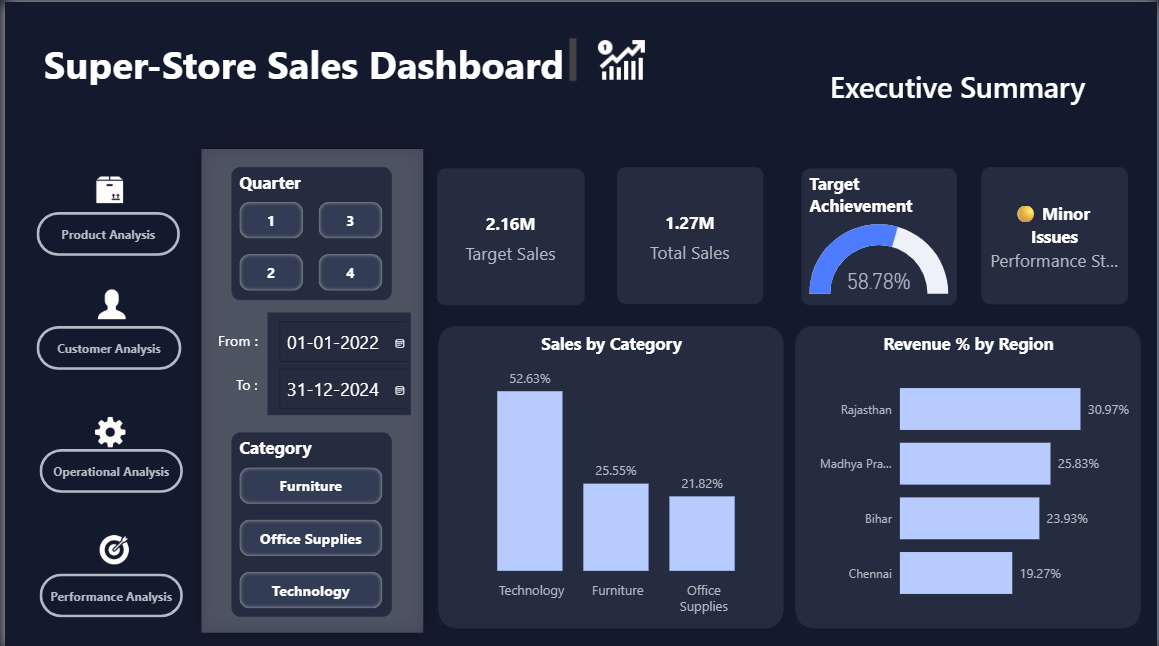

Layout of this report page (visuals, bound fields, positions):
{"tool":"powerbi","page":{"name":"Executive Summary","canvas":[1280,720],"ordinal":0},"visuals":[{"type":"card","fields":{"Values":["Orders.Total Revenue"]},"box":[292.8,148,191.9,126.9],"z":0},{"type":"textbox","box":[24.4,30.9,364.3,73.2],"z":1000},{"type":"actionButton","box":[566,55.3,161,48.8],"z":2000},{"type":"card","fields":{"Values":["Sum(Targets.Target Sales)"]},"box":[40.7,147.8,191.9,126.9],"z":3000},{"type":"actionButton","box":[731.9,55.3,164.3,48.8],"z":4000},{"type":"card","fields":{"Values":["Orders.Target Variance"]},"box":[544.9,148,191.9,126.9],"z":5000},{"type":"actionButton","box":[899.5,56.9,177.3,48.8],"z":6000},{"type":"card","title":"Profit Margin","fields":{"Values":["Orders.Performance Status"]},"box":[1055.6,148,191.9,126.9],"z":7000},{"type":"actionButton","box":[1081.7,55.3,191.9,48.8],"z":8000},{"type":"clusteredColumnChart","fields":{"Category":["Products.Category"],"Y":["Sum(Orders.Sales)"]},"box":[16.2,285.1,432,304],"z":9000},{"type":"lineChart","fields":{"Y":["Sum(Orders.Sales)"],"Category":["Calendar.Month"]},"box":[455.7,284.7,385.5,304.2],"z":10000},{"type":"barChart","fields":{"Category":["Customers.Region"],"Y":["Orders.Total Revenue"]},"box":[848.2,285.1,416,304],"z":11000},{"type":"advancedSlicerVisual","fields":{"Values":["Calendar.Quarter"]},"box":[16.3,600.2,431,110.6],"z":12000},{"type":"advancedSlicerVisual","fields":{"Values":["Products.Category"]},"box":[793.8,600.2,470.1,110.6],"z":13000},{"type":"image","box":[396.9,32.5,87.8,69.9],"z":14000},{"type":"image","box":[967.8,4.9,47.2,52],"z":15000},{"type":"image","box":[1156.5,6.5,45.5,53.7],"z":16000},{"type":"image","box":[793.8,6.5,50.4,48.8],"z":17000},{"type":"image","box":[627.2,8,46.4,48],"z":18000},{"type":"gauge","fields":{"Y":["Orders.Target Achievement %"]},"box":[797,149.6,203.3,126.9],"z":19000},{"type":"slicer","fields":{"Values":["Calendar.Date"]},"box":[476.6,600.2,300.9,110.6],"z":20000}]}

Visuals, with their boxes in screenshot pixels (x1, y1, x2, y2), scaled from the page's 1280x720 canvas onto the 1159x646 screenshot:
card - Orders.Total Revenue: {"x1": 265, "y1": 133, "x2": 439, "y2": 247}
textbox: {"x1": 22, "y1": 28, "x2": 352, "y2": 93}
actionButton: {"x1": 512, "y1": 50, "x2": 658, "y2": 93}
card - Sum(Targets.Target Sales): {"x1": 37, "y1": 133, "x2": 211, "y2": 246}
actionButton: {"x1": 663, "y1": 50, "x2": 811, "y2": 93}
card - Orders.Target Variance: {"x1": 493, "y1": 133, "x2": 667, "y2": 247}
actionButton: {"x1": 814, "y1": 51, "x2": 975, "y2": 95}
"Profit Margin" card: {"x1": 956, "y1": 133, "x2": 1130, "y2": 247}
actionButton: {"x1": 979, "y1": 50, "x2": 1153, "y2": 93}
clusteredColumnChart - Products.Category x Sum(Orders.Sales): {"x1": 15, "y1": 256, "x2": 406, "y2": 529}
lineChart - Sum(Orders.Sales) x Calendar.Month: {"x1": 413, "y1": 255, "x2": 762, "y2": 528}
barChart - Customers.Region x Orders.Total Revenue: {"x1": 768, "y1": 256, "x2": 1145, "y2": 529}
advancedSlicerVisual - Calendar.Quarter: {"x1": 15, "y1": 539, "x2": 405, "y2": 638}
advancedSlicerVisual - Products.Category: {"x1": 719, "y1": 539, "x2": 1144, "y2": 638}
image: {"x1": 359, "y1": 29, "x2": 439, "y2": 92}
image: {"x1": 876, "y1": 4, "x2": 919, "y2": 51}
image: {"x1": 1047, "y1": 6, "x2": 1088, "y2": 54}
image: {"x1": 719, "y1": 6, "x2": 764, "y2": 50}
image: {"x1": 568, "y1": 7, "x2": 610, "y2": 50}
gauge - Orders.Target Achievement %: {"x1": 722, "y1": 134, "x2": 906, "y2": 248}
slicer - Calendar.Date: {"x1": 432, "y1": 539, "x2": 704, "y2": 638}
